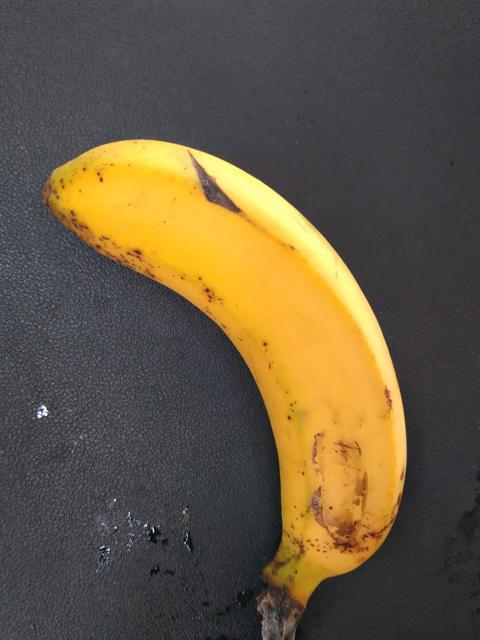ripe: (51, 95, 442, 628)
